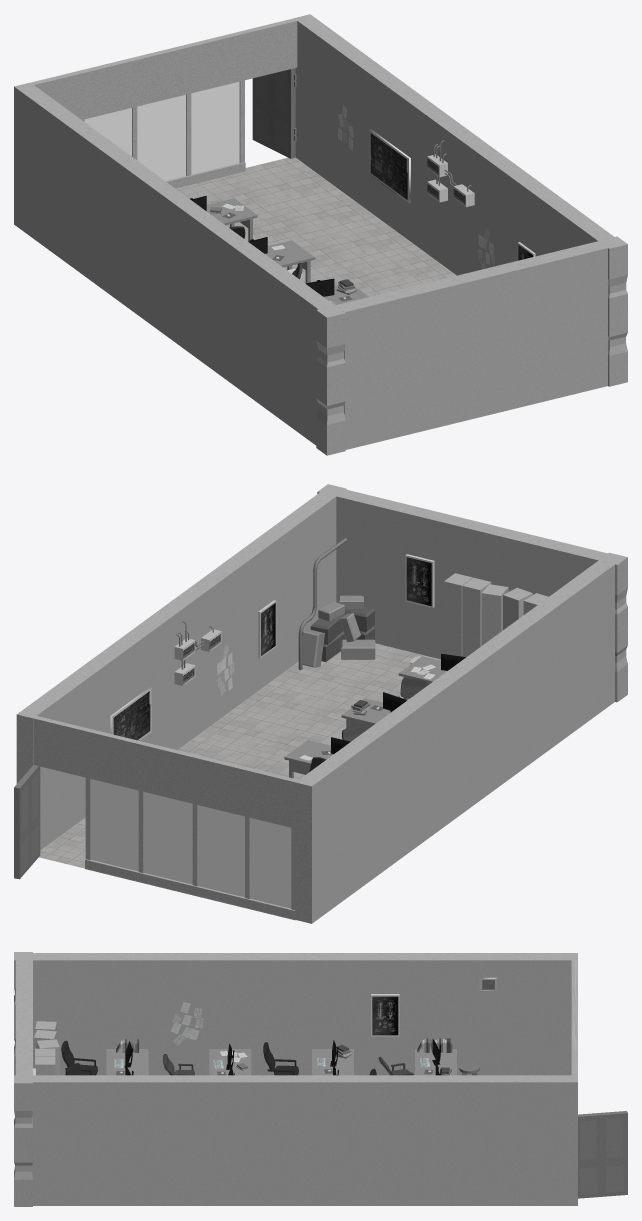
Rendered from Room3.fbx.
The picture shows the model from 3 angles, top to bottom: view 1: azimuth 30°, elevation 25°; view 2: azimuth 150°, elevation 25°; view 3: azimuth 270°, elevation 25°; orthographic projection. The views are drawn at different scales.
Visible parts, largest first — view 1: Wall1.055, Wall1.047, Wall1.050, Wall1.049, Wall1.048, Cube.030, Wall1.062, Wall1.046, Wall1.063, Wall1.064, Wall1.066, Wall1.060 (+27 smaller); view 2: Cube.030, Wall1.055, Wall1.061, Wall1.049, Wall1.050, Wall1.046, Wall1.064, Wall1.063, Wall1.060, Wall1.062, Wall1.066, Wall1.065 (+36 smaller); view 3: Wall1.053, Wall1.054, Wall1.067, Wall1.068, Wall1.069, Wall1.070, Wall1.051, Wall1.052, Wall1.061, Wall1.064, Wall1.060, Wall1.066 (+22 smaller).
Boxes of the visible parts, x1,y1,x2,y2 form: Wall1.055: (31,17,299,119); Wall1.047: (401,273,476,433); Wall1.050: (467,257,542,417); Wall1.049: (533,241,608,401); Wall1.048: (335,289,410,449); Cube.030: (84,81,239,180); Wall1.062: (128,166,182,335); Wall1.046: (204,222,258,391); Wall1.063: (90,138,143,307); Wall1.064: (166,194,220,363); Wall1.066: (242,249,296,418); Wall1.060: (52,110,106,279); Cube.030: (90,779,291,908); Wall1.055: (31,715,298,828); Wall1.061: (295,754,349,923); Wall1.049: (336,489,410,649); Wall1.050: (401,505,476,659); Wall1.046: (485,616,539,784); Wall1.064: (447,643,501,812); Wall1.063: (371,699,425,867); Wall1.060: (334,727,387,895); Wall1.062: (409,671,463,839); Wall1.066: (523,588,577,756); Wall1.065: (561,560,614,729); Wall1.053: (305,1075,373,1205); Wall1.054: (373,1075,441,1205); Wall1.067: (169,1075,237,1205); Wall1.068: (237,1075,305,1205); Wall1.069: (33,1075,101,1205); Wall1.070: (101,1075,169,1205); Wall1.051: (442,1075,509,1205); Wall1.052: (510,1075,577,1205); Wall1.061: (510,953,577,1075); Wall1.064: (237,953,305,1075); Wall1.060: (442,953,509,1075); Wall1.066: (101,953,169,1075).
Bounding box in the file's own units: 7.91 × 3.49 × 15.61.
